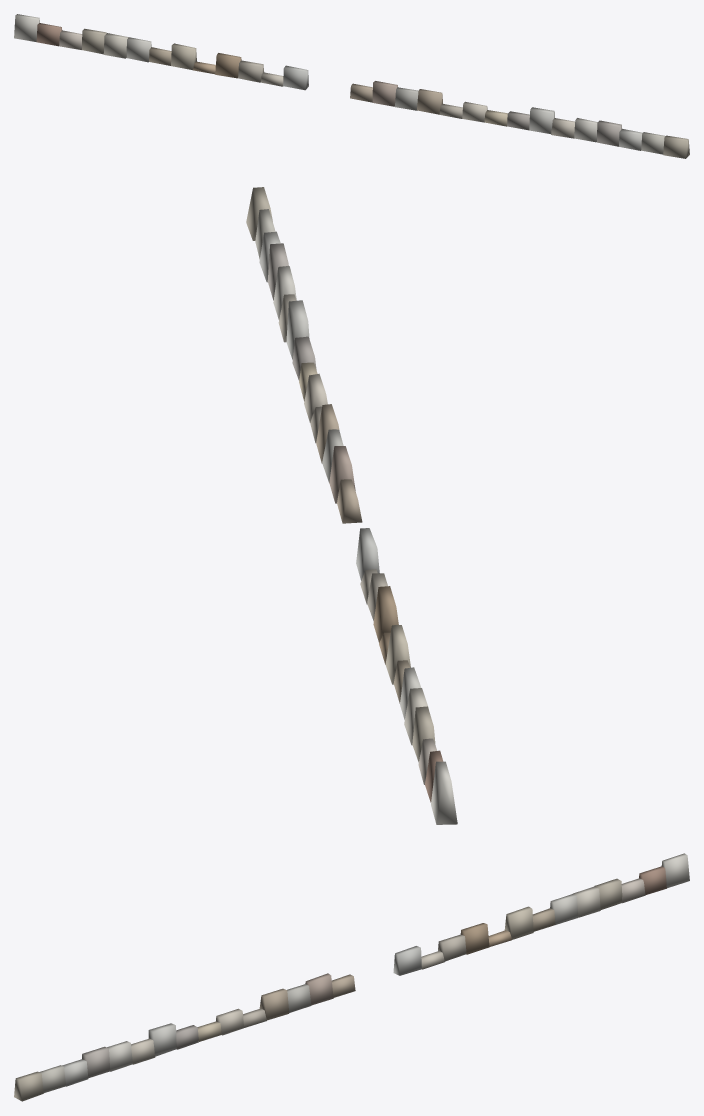
Rendered from farm_8_7_far.glb.
3 renders of one model, top to bottom at view 1: azimuth 30°, elevation 25°; view 2: azimuth 150°, elevation 25°; view 3: azimuth 270°, elevation 25°, orthographic. The views are drawn at different scales.
Visible parts, largest first — view 1: geometry_0; view 2: geometry_0; view 3: geometry_0.
Boxes of the visible parts, x1,y1,x2,y2 form: geometry_0: [14, 14, 689, 158]; geometry_0: [246, 187, 457, 824]; geometry_0: [14, 853, 689, 1101].
Bounding box in the file's own units: 29.06 × 1.76 × 37.58.
